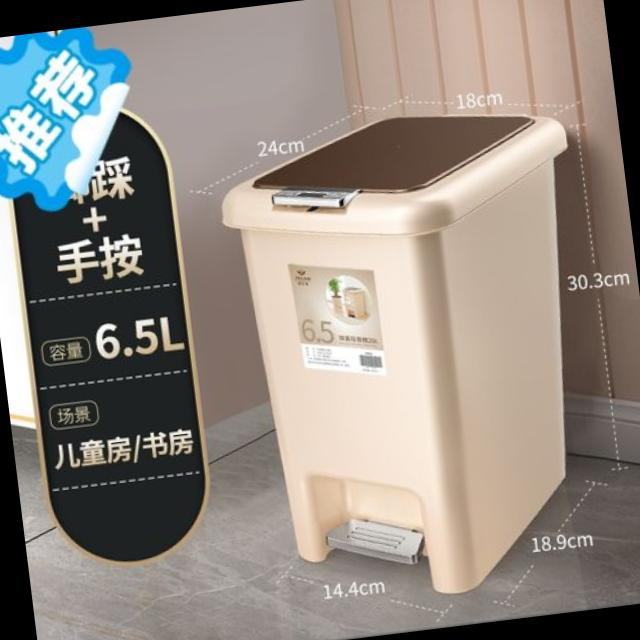dustbin: (208, 84, 626, 618)
